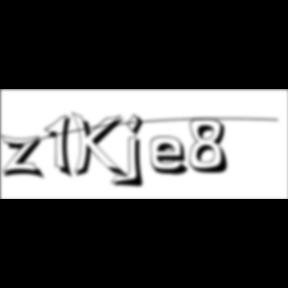1: (44, 114, 78, 182)
8: (190, 117, 234, 176)
K: (72, 110, 130, 182)
e: (150, 135, 196, 178)
j: (124, 113, 150, 191)
z: (0, 134, 50, 182)
